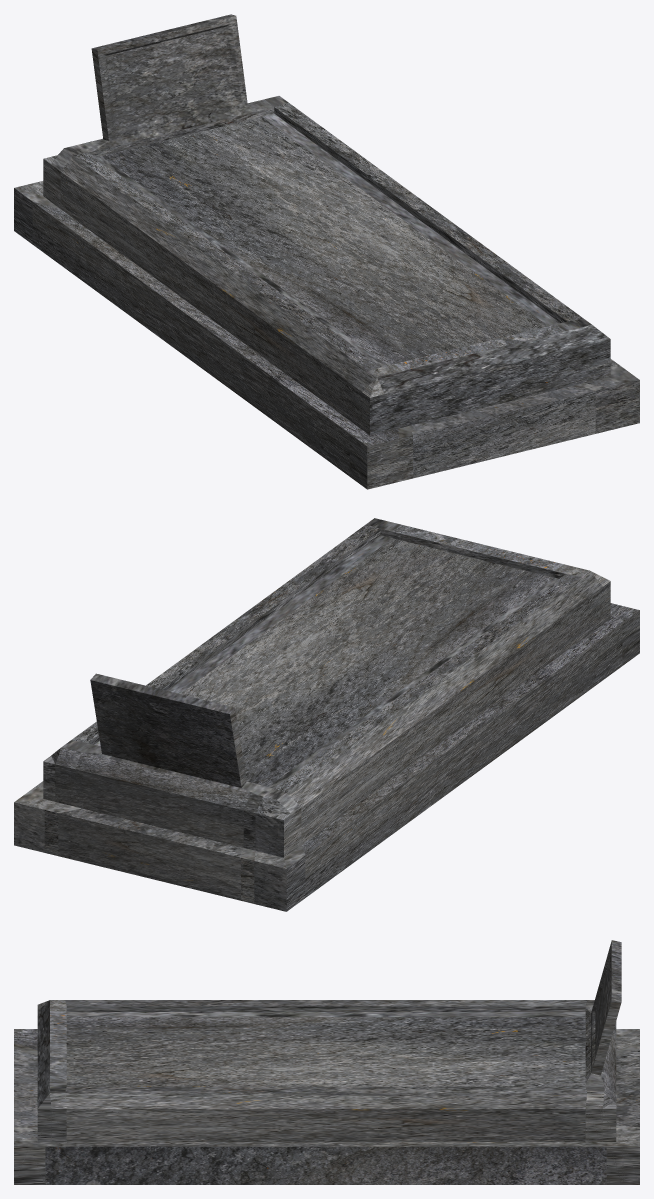
File: memorialfulllength_1.fbx
3 renders of one model, top to bottom at view 1: azimuth 30°, elevation 25°; view 2: azimuth 150°, elevation 25°; view 3: azimuth 270°, elevation 25°, orthographic. The views are drawn at different scales.
Parts seen in each view (by area): view 1: memorialfulllength; view 2: memorialfulllength; view 3: memorialfulllength.
Boxes of the visible parts, box(x1,y1,x2,y2) form: memorialfulllength: box(14, 14, 639, 489); memorialfulllength: box(14, 518, 639, 911); memorialfulllength: box(14, 940, 639, 1184).
Size of the model in its own units: 2.26 by 1.4 by 5.08.
Materials: 2 (2 with a texture image).
